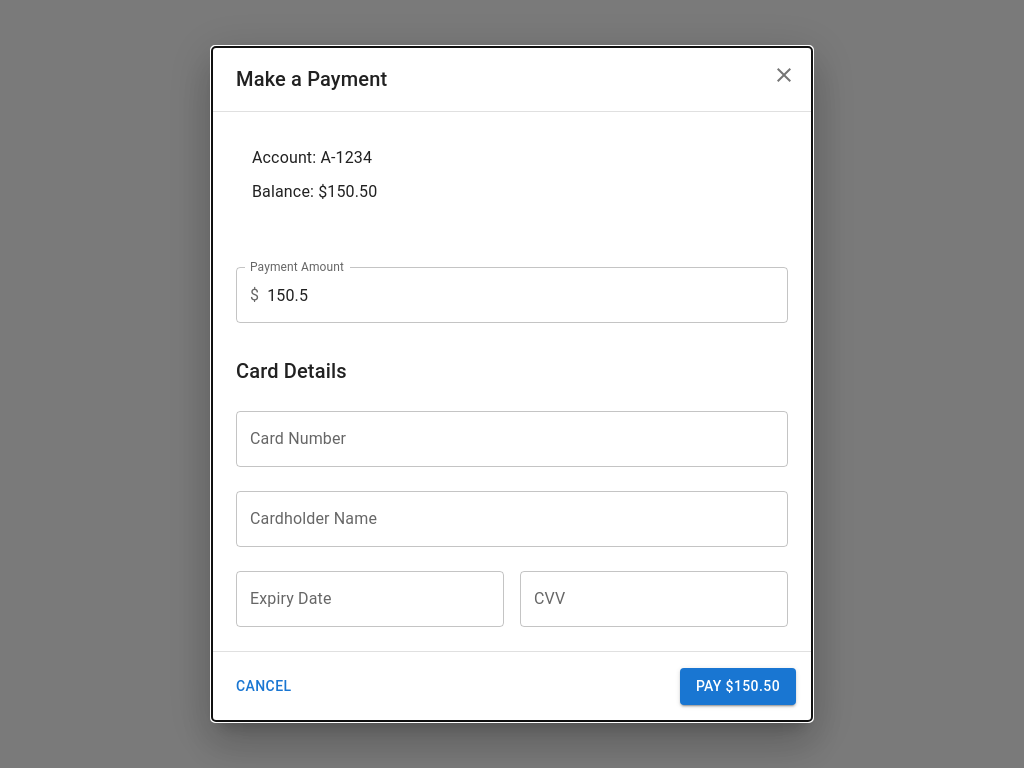
Scenario: PaymentModal Component › handles payment failure gracefully
The image size is (1024, 768).
Fill in form fields with valid data
Type "4111111111111111" into the field labelled "Card Number" at (512, 439), box [236, 411, 788, 467]
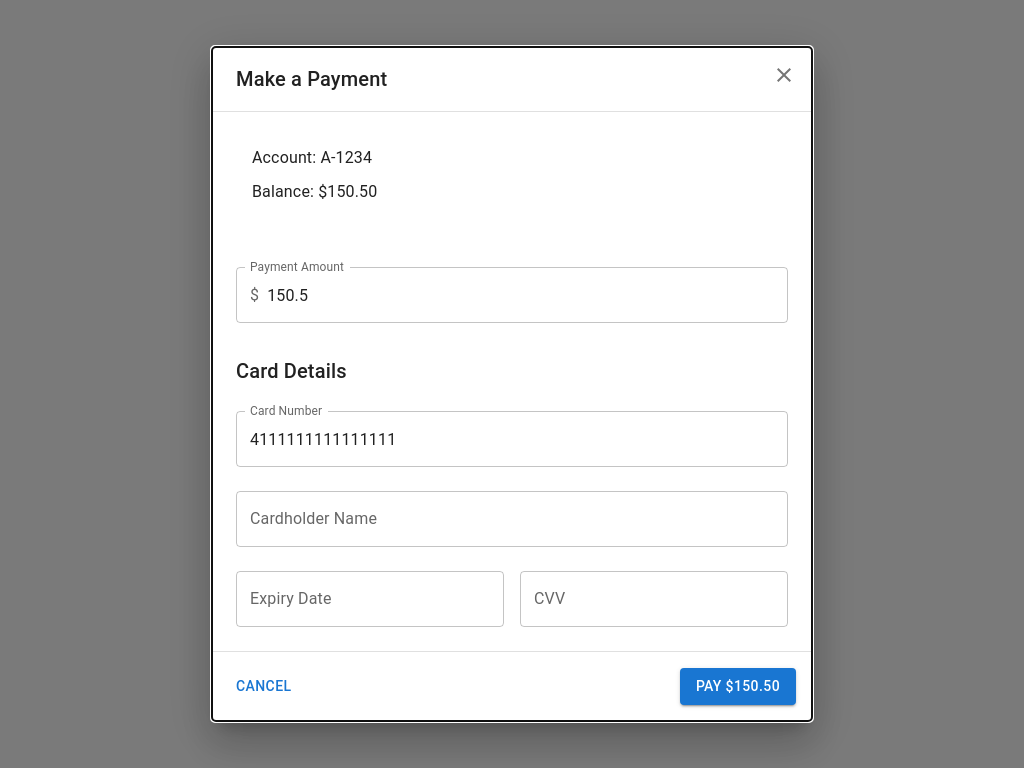
Type "John Doe" into the field labelled "Cardholder Name" at (512, 519), box [236, 491, 788, 547]
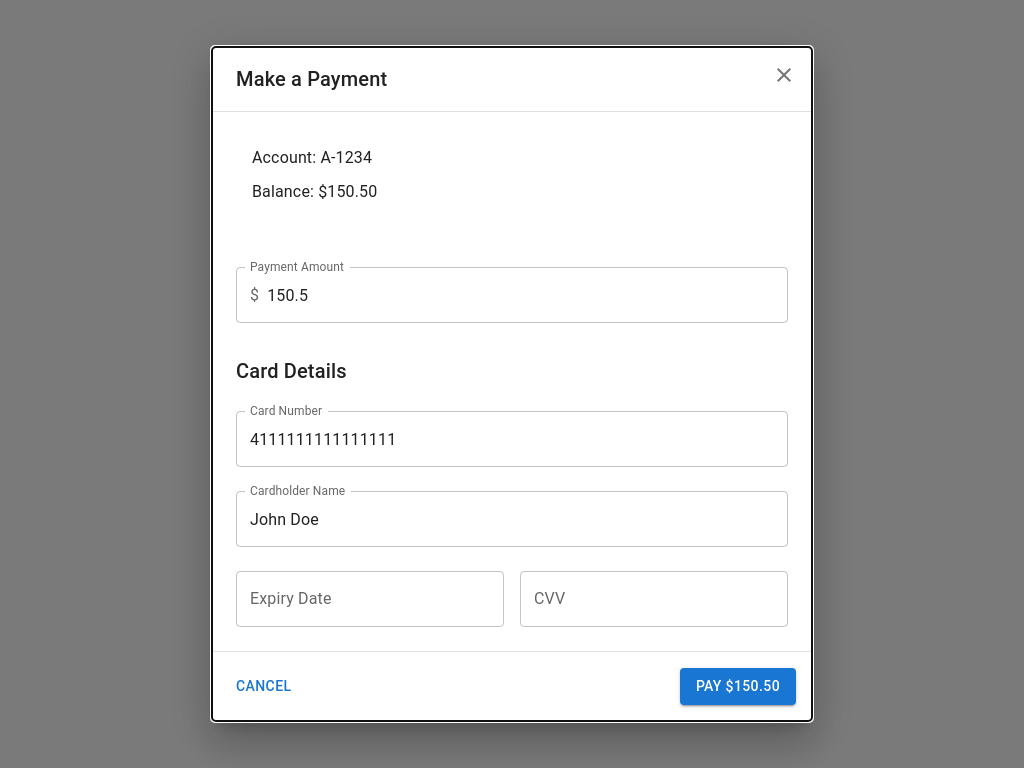
Type "12/30" into the field labelled "Expiry Date" at (370, 599), box [236, 571, 504, 627]
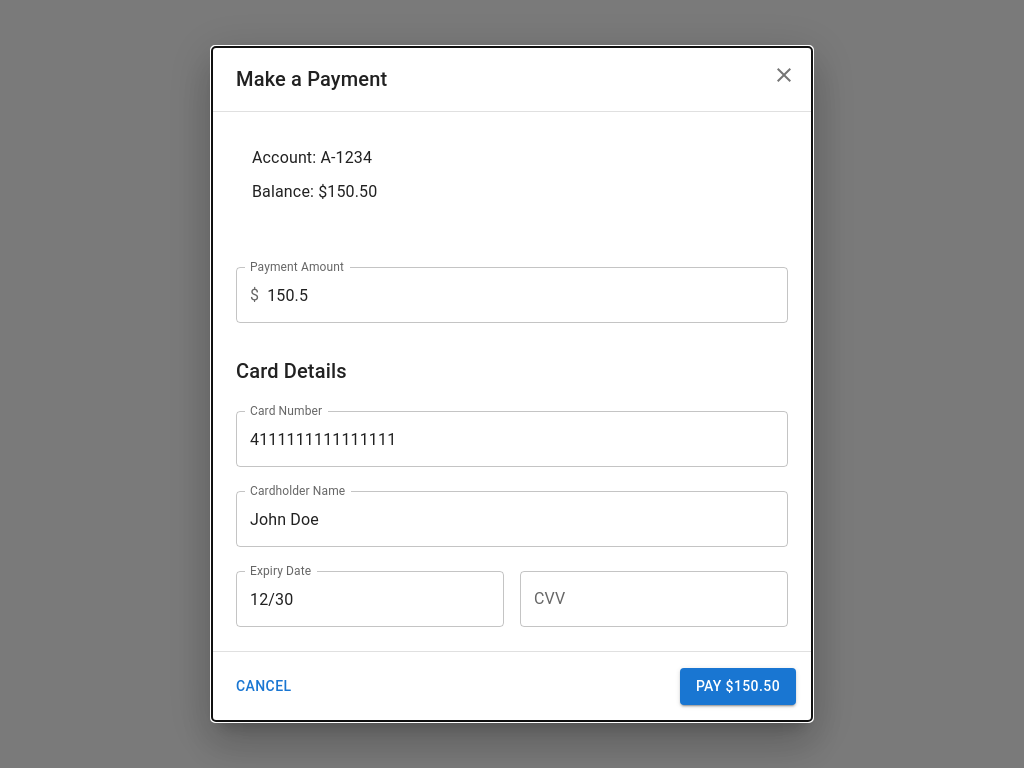
Type "123" into the password field labelled "CVV" at (654, 599), box [520, 571, 788, 627]
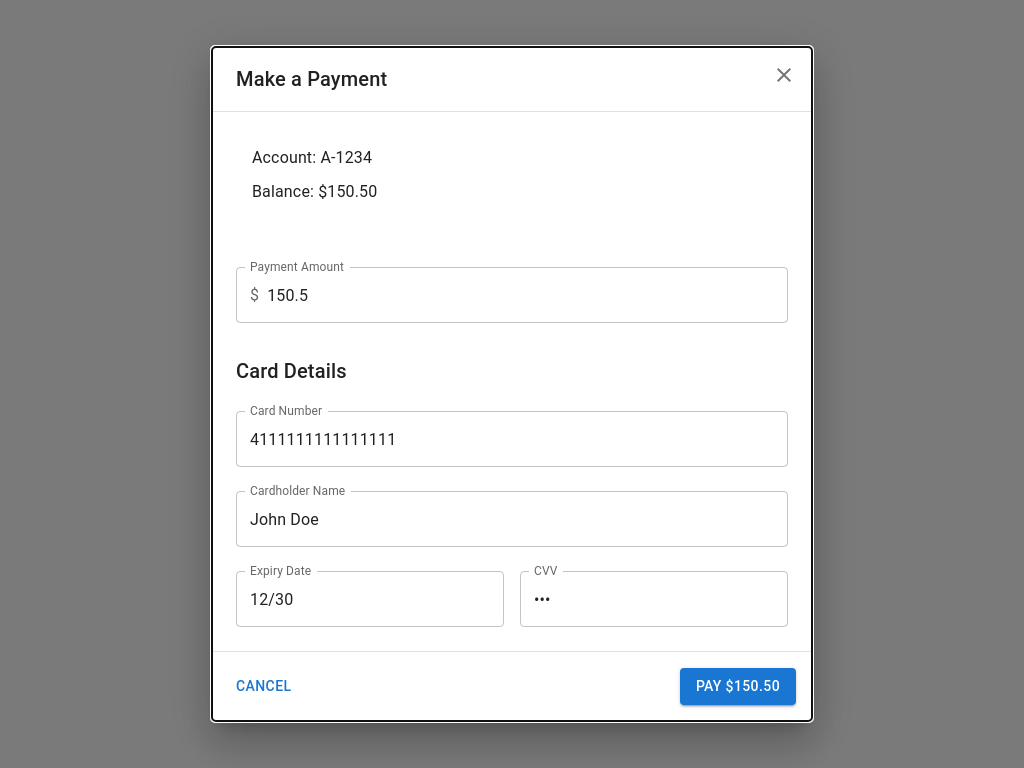
Submit the form
Click the button "Pay $150.50" at (738, 687), box [680, 668, 796, 705]
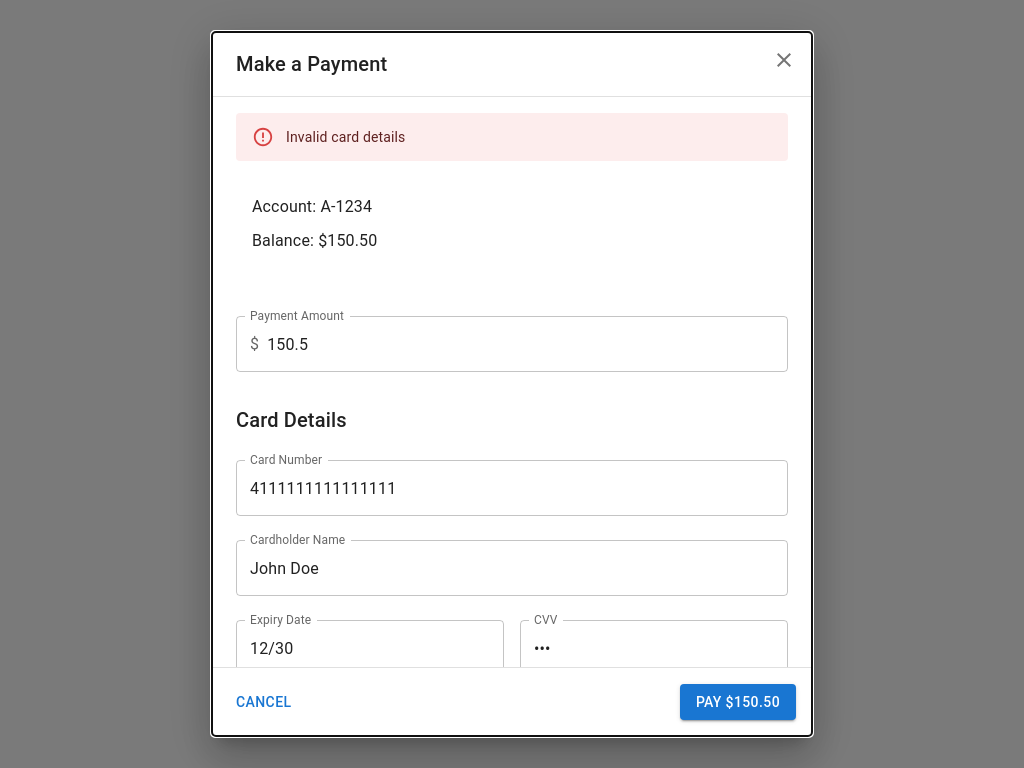
Now the text "Invalid card details" is shown, box [286, 129, 406, 145]
